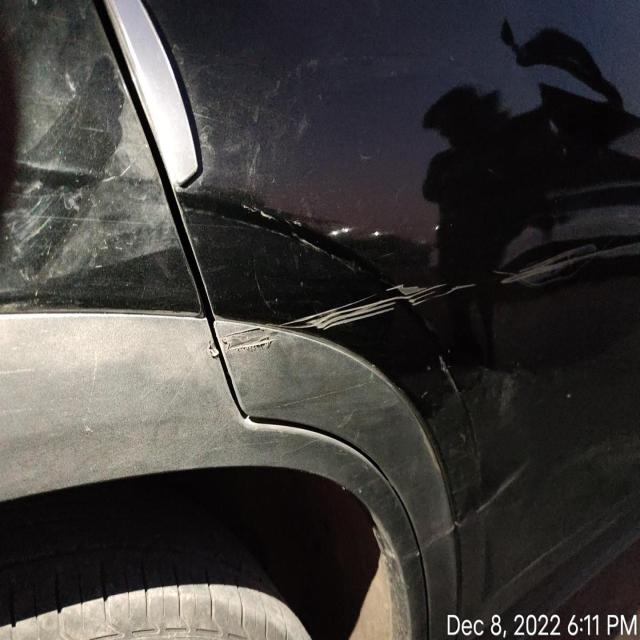damage: (273, 225, 615, 345)
